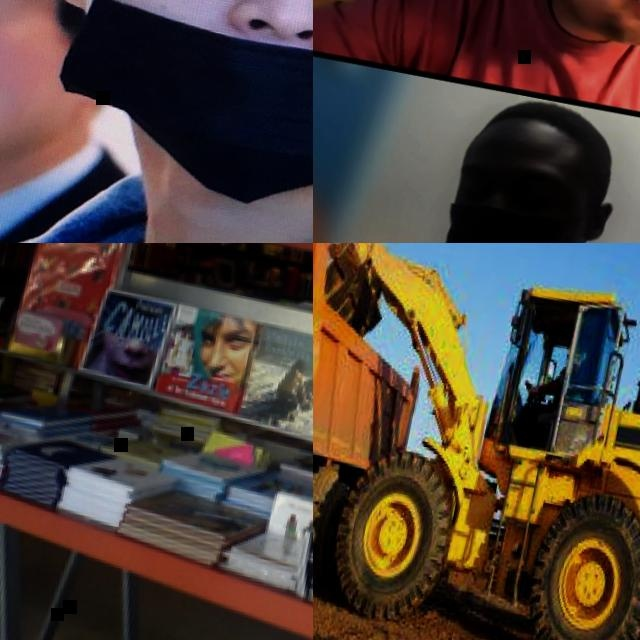Mask: (17, 0, 313, 243)
NO-Hardhat: (463, 88, 622, 176)
NO-Mask: (0, 34, 93, 192), (428, 195, 592, 243), (553, 0, 640, 56)
NO-Safety Vest: (394, 0, 640, 128), (0, 177, 313, 243), (551, 365, 569, 407)
Person: (0, 0, 313, 243), (313, 61, 640, 243), (313, 0, 640, 161), (0, 0, 200, 243), (511, 343, 585, 456)
machinery: (313, 243, 640, 640), (313, 243, 454, 640)
